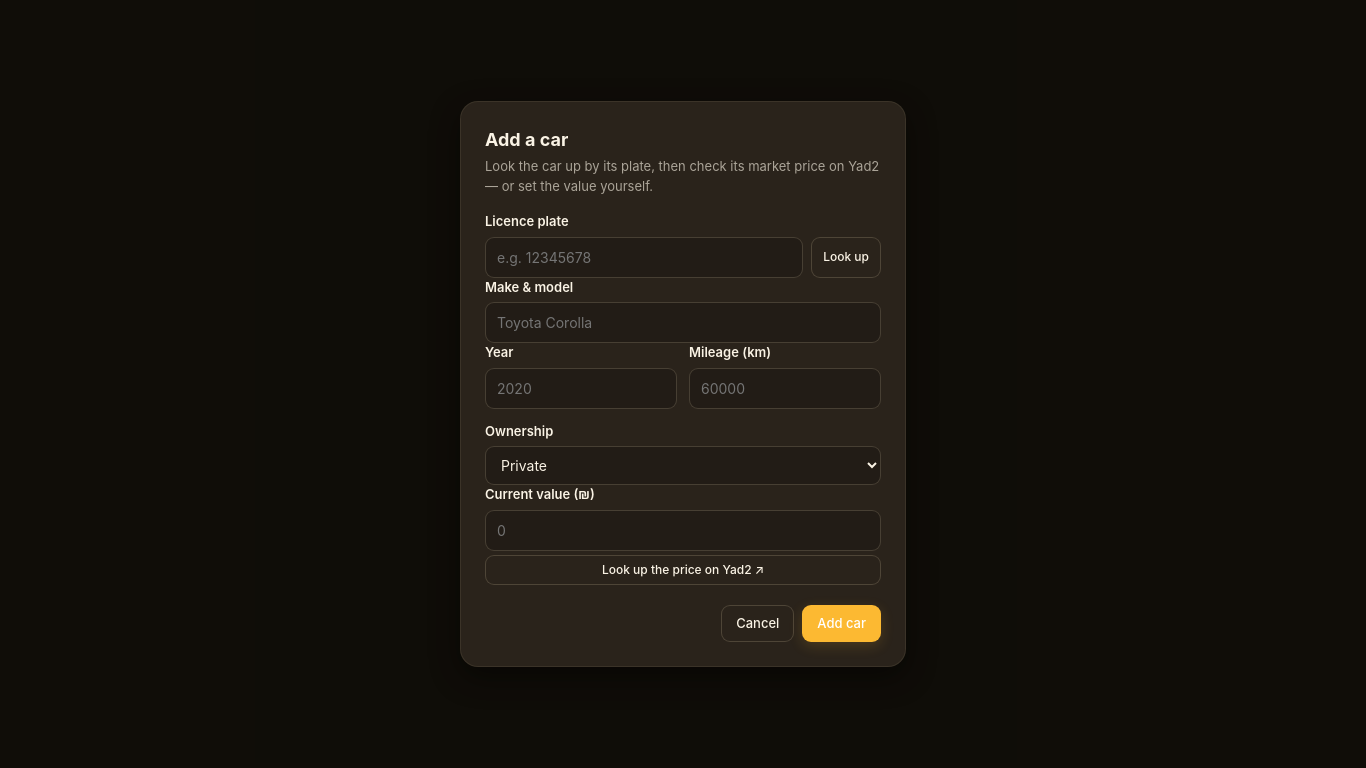
CarAssetForm › looks up a plate and autofills the spec card
Type "12-345-678" into the field labelled "Licence plate Look up" at [644, 257], box [485, 236, 803, 278]
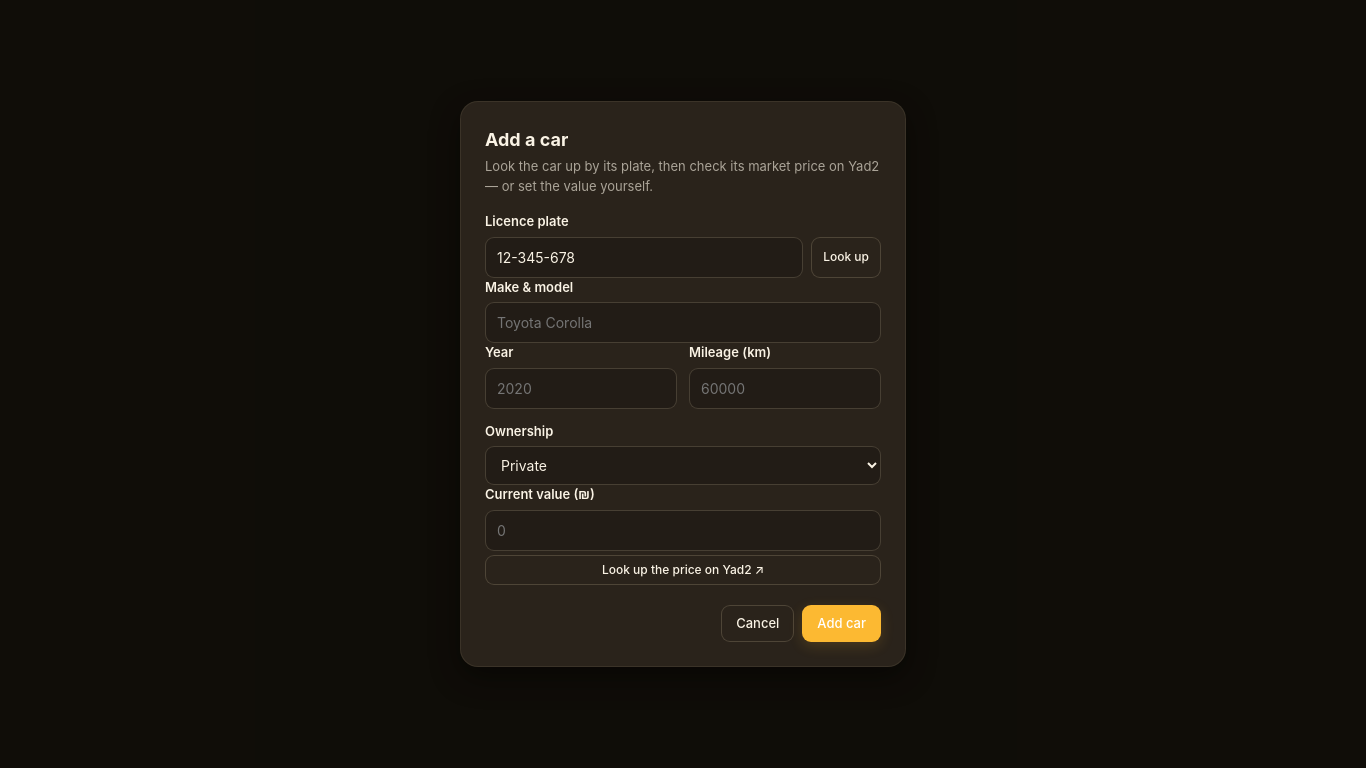
Click the button "Look up" at [846, 257], box [811, 236, 881, 278]
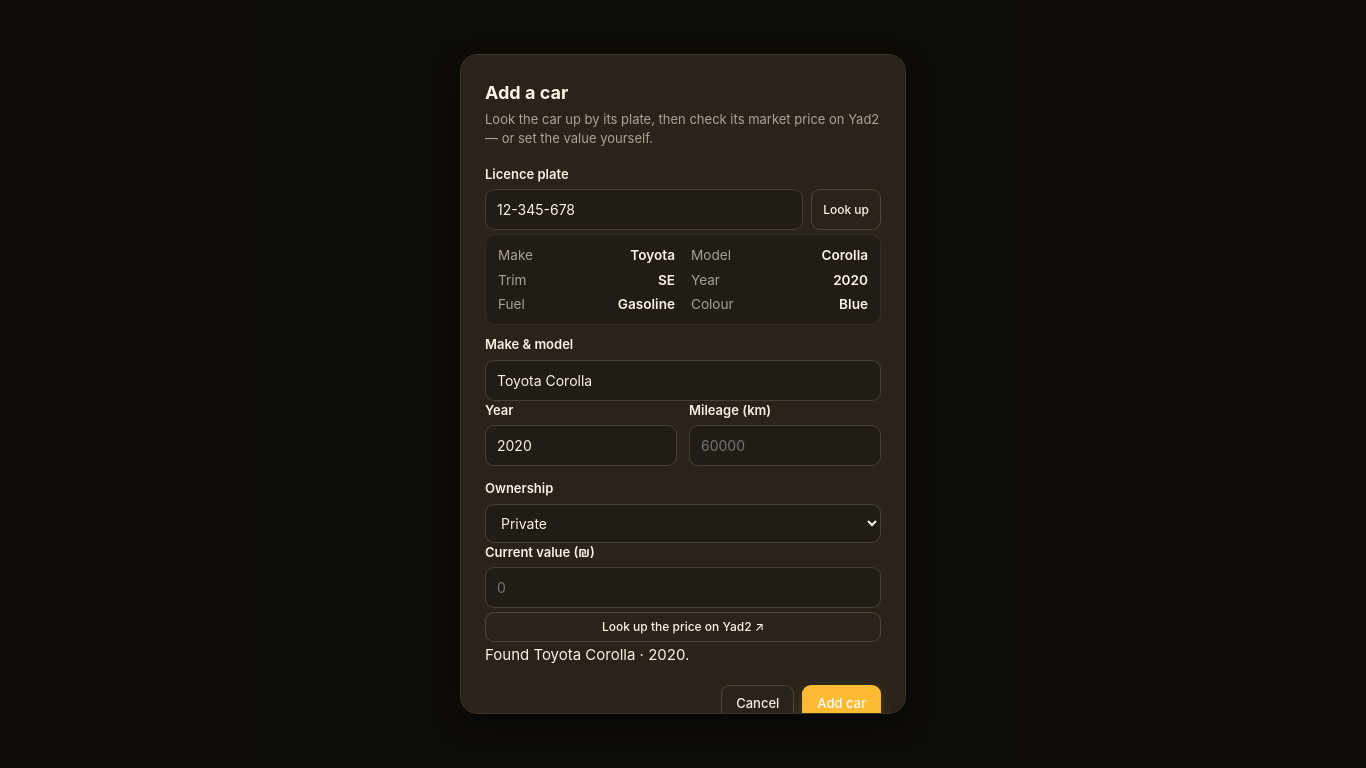
Check: the field labelled "Make & model" holds "Toyota Corolla", box [485, 360, 881, 401]
Check: the number field labelled "Year" holds "2020", box [485, 425, 677, 466]
Check: the text "SE" is shown, box [658, 270, 675, 290]
